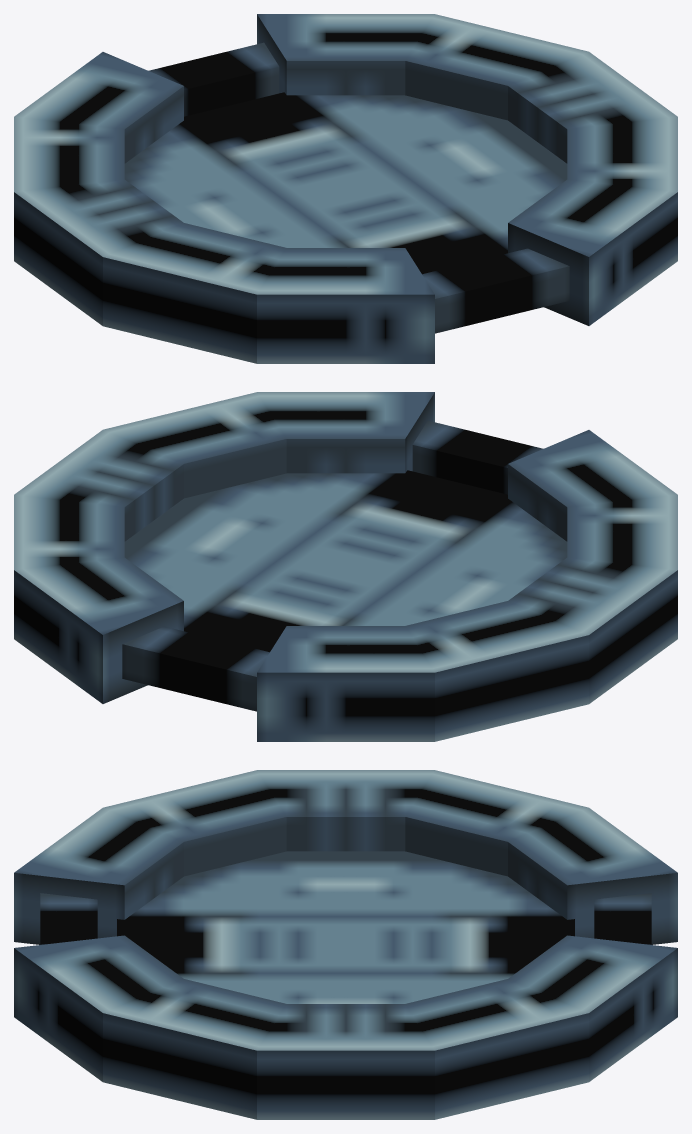
File: Frisbee.fbx
The picture shows the model from 3 angles, top to bottom: view 1: azimuth 30°, elevation 25°; view 2: azimuth 150°, elevation 25°; view 3: azimuth 270°, elevation 25°; orthographic projection.
Visible parts, largest first — view 1: Frisbee; view 2: Frisbee; view 3: Frisbee.
Part boxes in pixels (x1=…): Frisbee: x1=14, y1=14, x2=677, y2=363; Frisbee: x1=14, y1=392, x2=677, y2=741; Frisbee: x1=14, y1=770, x2=677, y2=1119.
Bounding box in the file's own units: 8.69 × 1 × 8.69.
